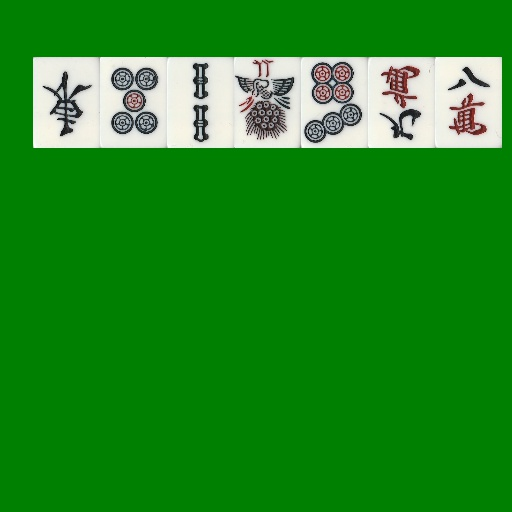1s: (234, 57, 301, 148)
2s: (167, 57, 234, 148)
5p: (100, 57, 167, 148)
7p: (301, 57, 368, 148)
8m: (435, 57, 502, 148)
9m: (368, 57, 435, 148)
east: (33, 57, 100, 148)
